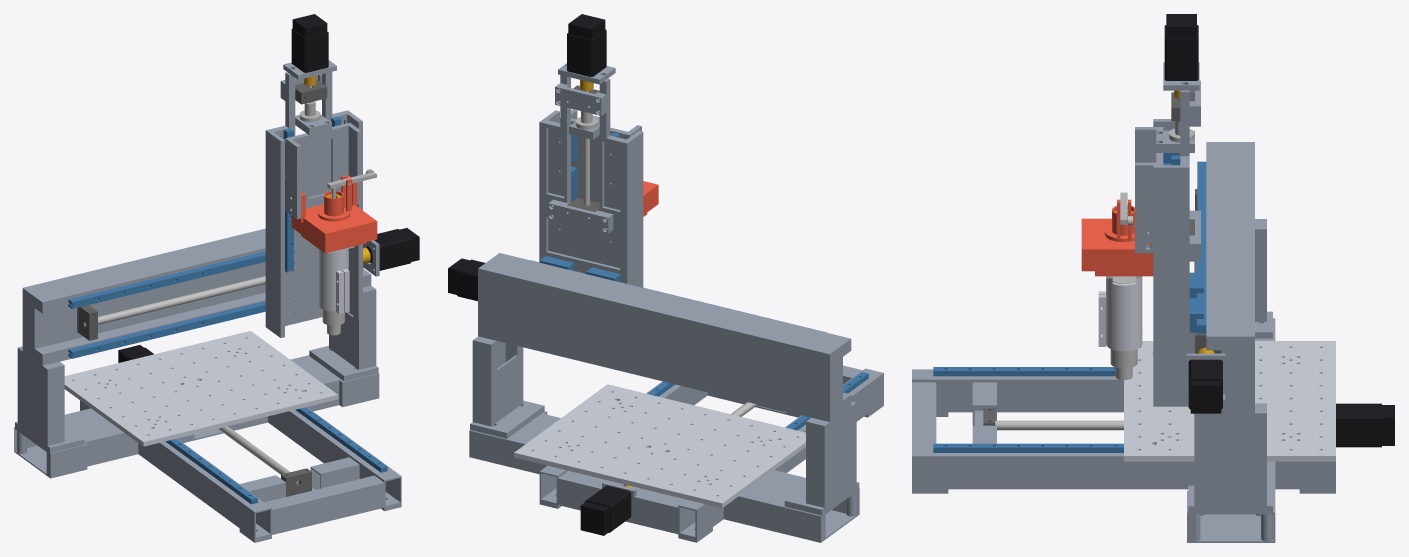
The model's file is standard_dock.glb.
The picture shows the model from 3 angles, left to right: view 1: azimuth 30°, elevation 25°; view 2: azimuth 150°, elevation 25°; view 3: azimuth 270°, elevation 25°; orthographic projection. The views are drawn at different scales.
Parts seen in each view (by area): view 1: table, beam, x_carriage, frame_cross_rear, z_slide, upright_L, frame_longeron_L, frame_cross_front, upright_R, frame_longeron_R, tooldock_master, x_rail_bot (+14 smaller); view 2: beam, table, x_carriage, frame_cross_rear, upright_R, upright_L, frame_cross_end, frame_longeron_L, z_motor, y_motor, frame_longeron_R, z_slide (+3 smaller); view 3: table, beam, frame_longeron_R, x_carriage, upright_R, frame_longeron_L, frame_cross_rear, head_mount, tooldock_master, z_slide, y_motor, z_motor (+9 smaller).
Boxes of the visible parts, left/top/right/bottom form: table: left=64, top=331, right=338, bottom=446; beam: left=22, top=228, right=379, bottom=365; x_carriage: left=265, top=72, right=362, bottom=337; frame_cross_rear: left=14, top=355, right=379, bottom=478; z_slide: left=285, top=122, right=361, bottom=219; upright_L: left=15, top=346, right=84, bottom=453; frame_longeron_L: left=80, top=400, right=271, bottom=542; frame_cross_front: left=265, top=475, right=384, bottom=534; upright_R: left=309, top=285, right=378, bottom=381; frame_longeron_R: left=268, top=407, right=401, bottom=511; tooldock_master: left=291, top=175, right=377, bottom=251; x_rail_bot: left=68, top=301, right=265, bottom=358; beam: left=478, top=253, right=851, bottom=421; table: left=514, top=384, right=805, bottom=508; x_carriage: left=539, top=75, right=643, bottom=287; frame_cross_rear: left=469, top=411, right=859, bottom=542; upright_R: left=470, top=336, right=544, bottom=438; upright_L: left=784, top=401, right=859, bottom=515; frame_cross_end: left=558, top=471, right=685, bottom=534; frame_longeron_L: left=678, top=368, right=883, bottom=542; z_motor: left=567, top=14, right=606, bottom=76; y_motor: left=580, top=485, right=631, bottom=535; frame_longeron_R: left=539, top=381, right=707, bottom=508; z_slide: left=560, top=109, right=641, bottom=202; table: left=1124, top=341, right=1335, bottom=461; beam: left=1186, top=142, right=1254, bottom=413; frame_longeron_R: left=912, top=446, right=1335, bottom=493; x_carriage: left=1153, top=90, right=1189, bottom=406; upright_R: left=1188, top=403, right=1272, bottom=512; frame_longeron_L: left=912, top=369, right=1123, bottom=416; frame_cross_rear: left=1187, top=318, right=1275, bottom=542; head_mount: left=1098, top=276, right=1142, bottom=351; tooldock_master: left=1081, top=218, right=1153, bottom=271; z_slide: left=1135, top=127, right=1163, bottom=253; y_motor: left=1336, top=403, right=1394, bottom=447; z_motor: left=1164, top=14, right=1198, bottom=80.
Bounding box in the file's own units: 857 × 883 × 797.
